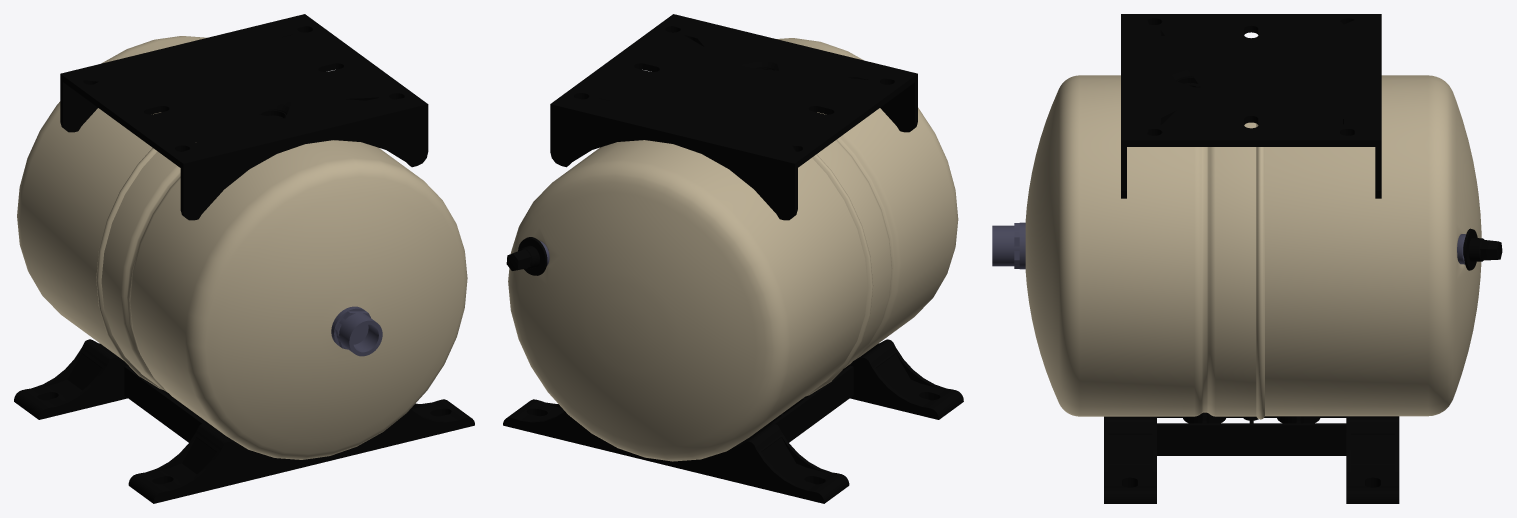
File: 24lt-sabit-tank-yatay.obj
The picture shows the model from 3 angles, left to right: view 1: azimuth 30°, elevation 25°; view 2: azimuth 150°, elevation 25°; view 3: azimuth 270°, elevation 25°; orthographic projection. The views are drawn at different scales.
Parts seen in each view (by area): view 1: 24lt-sabit-yatay-tank.005, 24lt-sabit-yatay-tank, 24lt-sabit-yatay-tank.008, 24lt-sabit-yatay-tank.015, 24lt-sabit-yatay-tank.007, 24lt-sabit-yatay-tank.004; view 2: 24lt-sabit-yatay-tank.008, 24lt-sabit-yatay-tank, 24lt-sabit-yatay-tank.005, 24lt-sabit-yatay-tank.015, 24lt-sabit-yatay-tank.004, 24lt-sabit-yatay-tank.003; view 3: 24lt-sabit-yatay-tank.005, 24lt-sabit-yatay-tank.008, 24lt-sabit-yatay-tank, 24lt-sabit-yatay-tank.015, 24lt-sabit-yatay-tank.004, 24lt-sabit-yatay-tank.007, 24lt-sabit-yatay-tank.003.
Boxes of the visible parts, box(x1,y1,x2,y2) form: 24lt-sabit-yatay-tank.005: box(101, 140, 467, 459); 24lt-sabit-yatay-tank: box(60, 14, 428, 220); 24lt-sabit-yatay-tank.008: box(17, 36, 206, 360); 24lt-sabit-yatay-tank.015: box(14, 339, 474, 503); 24lt-sabit-yatay-tank.007: box(331, 306, 382, 356); 24lt-sabit-yatay-tank.004: box(96, 148, 162, 389); 24lt-sabit-yatay-tank.008: box(508, 140, 867, 461); 24lt-sabit-yatay-tank: box(550, 14, 917, 220); 24lt-sabit-yatay-tank.005: box(777, 38, 958, 379); 24lt-sabit-yatay-tank.015: box(503, 339, 963, 503); 24lt-sabit-yatay-tank.004: box(806, 154, 873, 396); 24lt-sabit-yatay-tank.003: box(506, 237, 547, 275); 24lt-sabit-yatay-tank.005: box(1025, 75, 1256, 416); 24lt-sabit-yatay-tank.008: box(1265, 75, 1481, 416); 24lt-sabit-yatay-tank: box(1121, 14, 1381, 198); 24lt-sabit-yatay-tank.015: box(1104, 412, 1399, 503); 24lt-sabit-yatay-tank.004: box(1256, 123, 1264, 419); 24lt-sabit-yatay-tank.007: box(992, 222, 1025, 269); 24lt-sabit-yatay-tank.003: box(1463, 228, 1502, 270).
Bounding box in the file's own units: 16.29 × 15.75 × 21.18.
